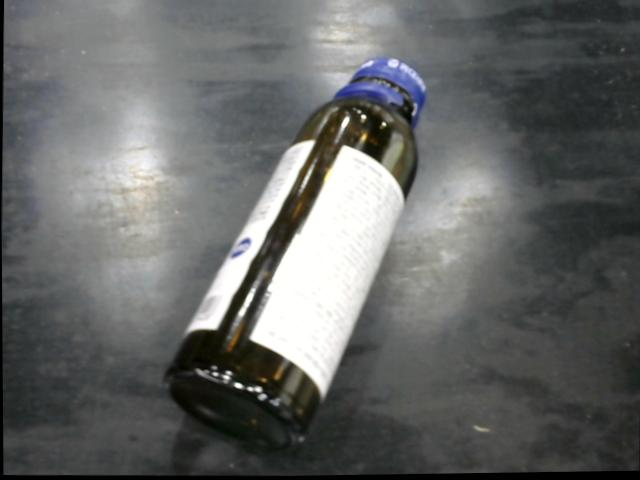glass: (163, 54, 432, 461)
